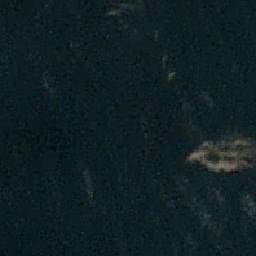debris: (186, 136, 255, 172)
